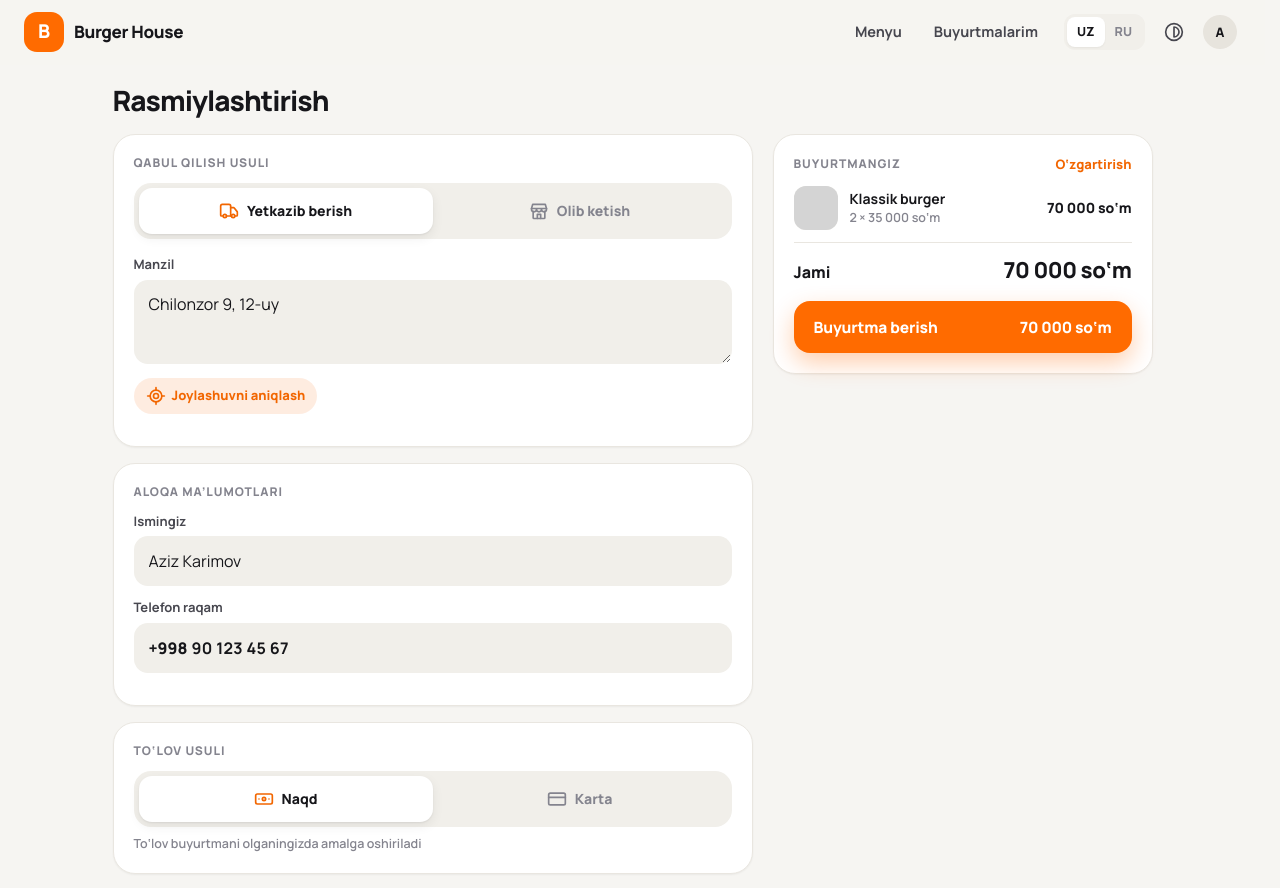
Test: checkout › maps server validation errors to the fields
Expected: the heading "Rasmiylashtirish" is shown, x1=112 y1=83 x2=328 y2=118
Expected: the field showing "Aziz Karimov" is shown, x1=134 y1=536 x2=732 y2=586
Click the button "Buyurtma berish 70 000 so‘m": {"x": 876, "y": 326} x1=794 y1=301 x2=1132 y2=353
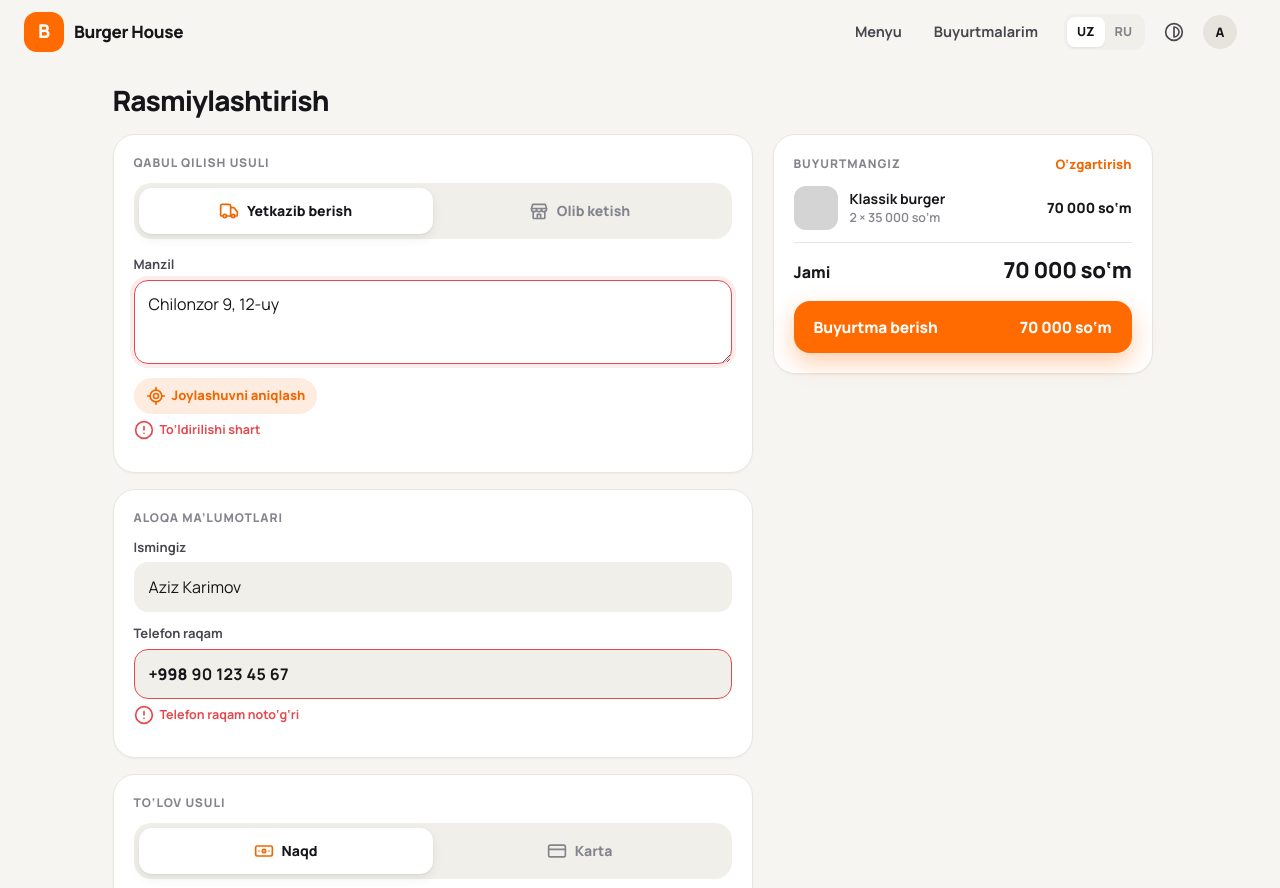
Expected: the text "Telefon raqam noto‘g‘ri" is shown, x1=134 y1=705 x2=299 y2=725
Expected: the text "To‘ldirilishi shart" is shown, x1=134 y1=420 x2=260 y2=440
